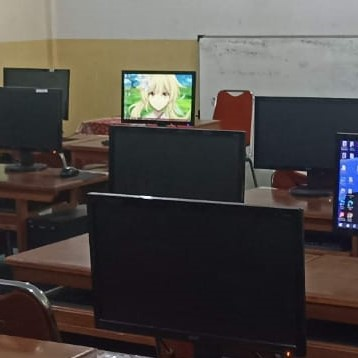monitor: (87, 192, 308, 352), (107, 126, 246, 204), (252, 97, 358, 195), (305, 131, 358, 315), (0, 87, 63, 154), (121, 70, 196, 125), (2, 67, 71, 121)
